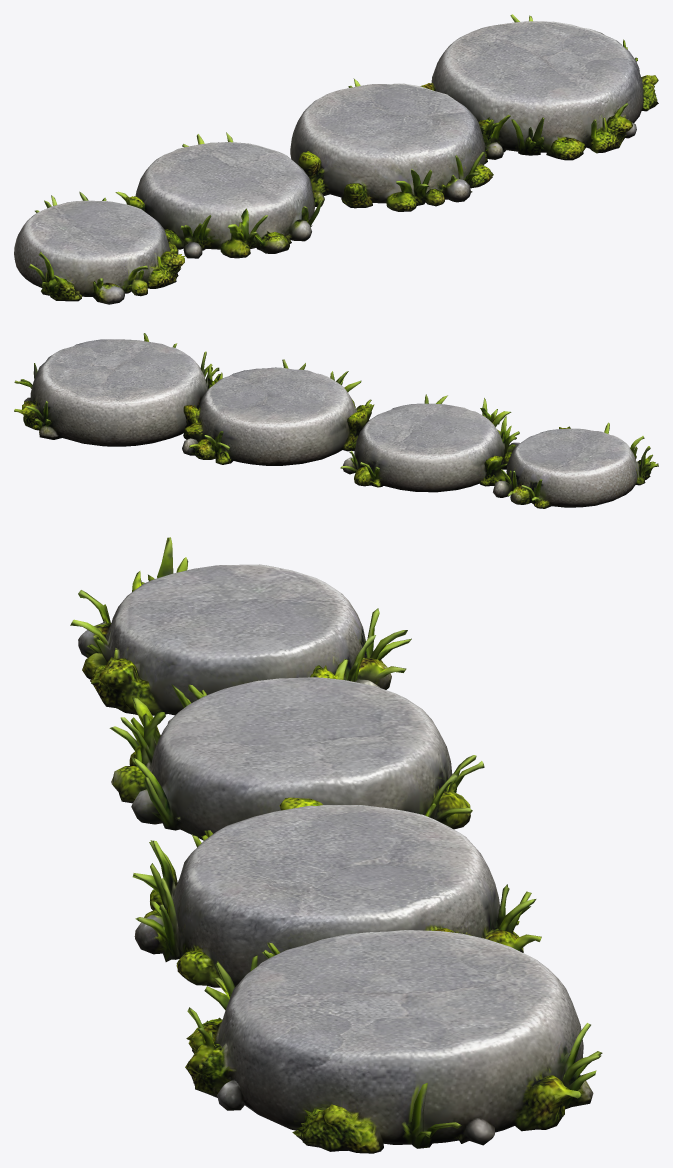
File: Kit_W_StepStones_HD_src.glb
3 views of the same model, one above another, from view 1: azimuth 30°, elevation 25°; view 2: azimuth 150°, elevation 25°; view 3: azimuth 270°, elevation 25° (orthographic). The views are drawn at different scales.
Parts seen in each view (by area): view 1: tripo_node_6c1f0a83-6ba6-4715-848b-e4801baeaf39; view 2: tripo_node_6c1f0a83-6ba6-4715-848b-e4801baeaf39; view 3: tripo_node_6c1f0a83-6ba6-4715-848b-e4801baeaf39.
Part boxes in pixels (x1=…): tripo_node_6c1f0a83-6ba6-4715-848b-e4801baeaf39: x1=14, y1=14, x2=658, y2=304; tripo_node_6c1f0a83-6ba6-4715-848b-e4801baeaf39: x1=14, y1=333, x2=658, y2=508; tripo_node_6c1f0a83-6ba6-4715-848b-e4801baeaf39: x1=70, y1=537, x2=602, y2=1153.
Size of the model in its own units: 0.9799 by 0.071 by 0.3971.
1 material, 1 textured.
